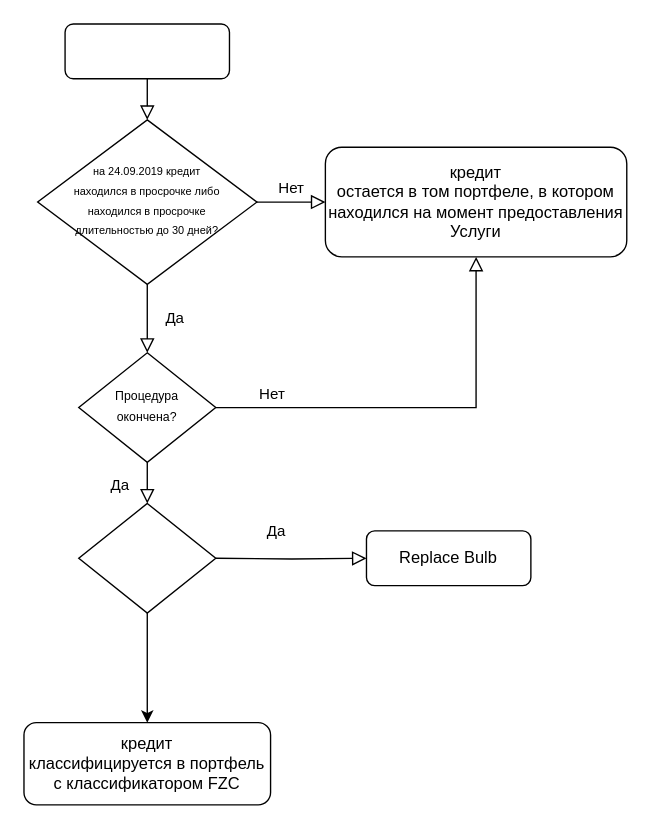
This 651x829 diagram has some shape labels left out. The shapes that lost their labels are listed below. From the top down, each one's centre as x and y in pixels, then its label:
At [146,51]: "Предоставлена Услуга".
At [146,557]: "Есть иные более приоритетные признаки?".
